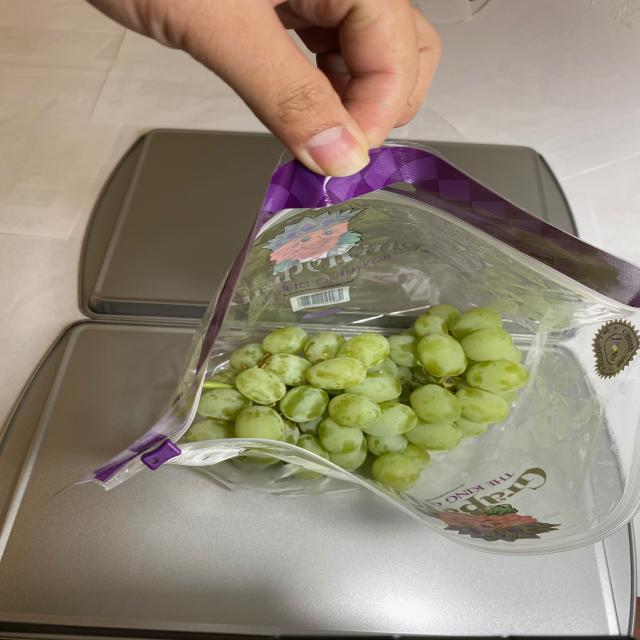grapes: (169, 308, 531, 489)
